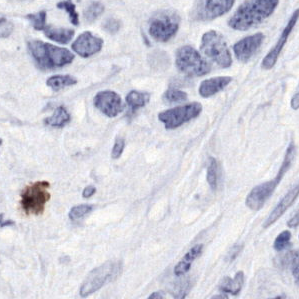Lymphocyte: (16, 179, 50, 215)
